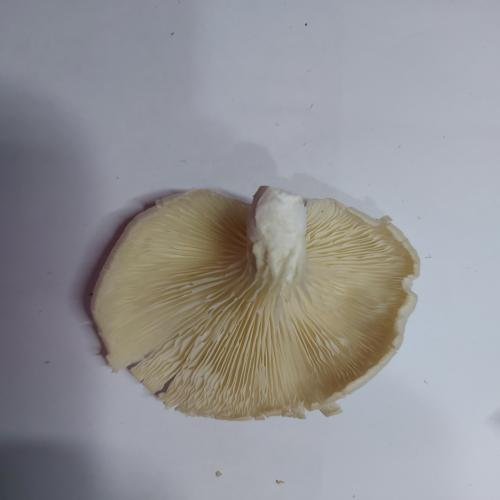Oyster Mushroom: (89, 185, 421, 422)
